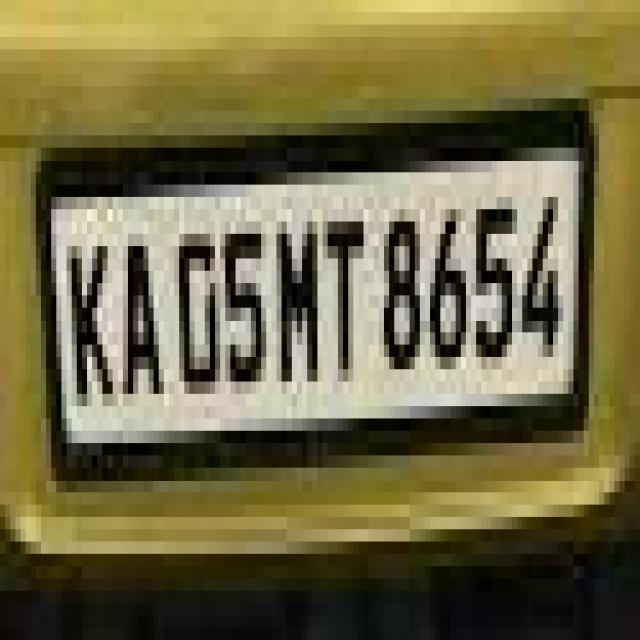0: (172, 215, 222, 402)
4: (522, 190, 566, 360)
5: (220, 204, 268, 400), (472, 178, 519, 364)
6: (428, 205, 472, 388)
8: (378, 206, 428, 370)
A: (122, 234, 168, 403)
K: (59, 224, 118, 398)
M: (271, 210, 326, 396)
T: (320, 202, 372, 396)
